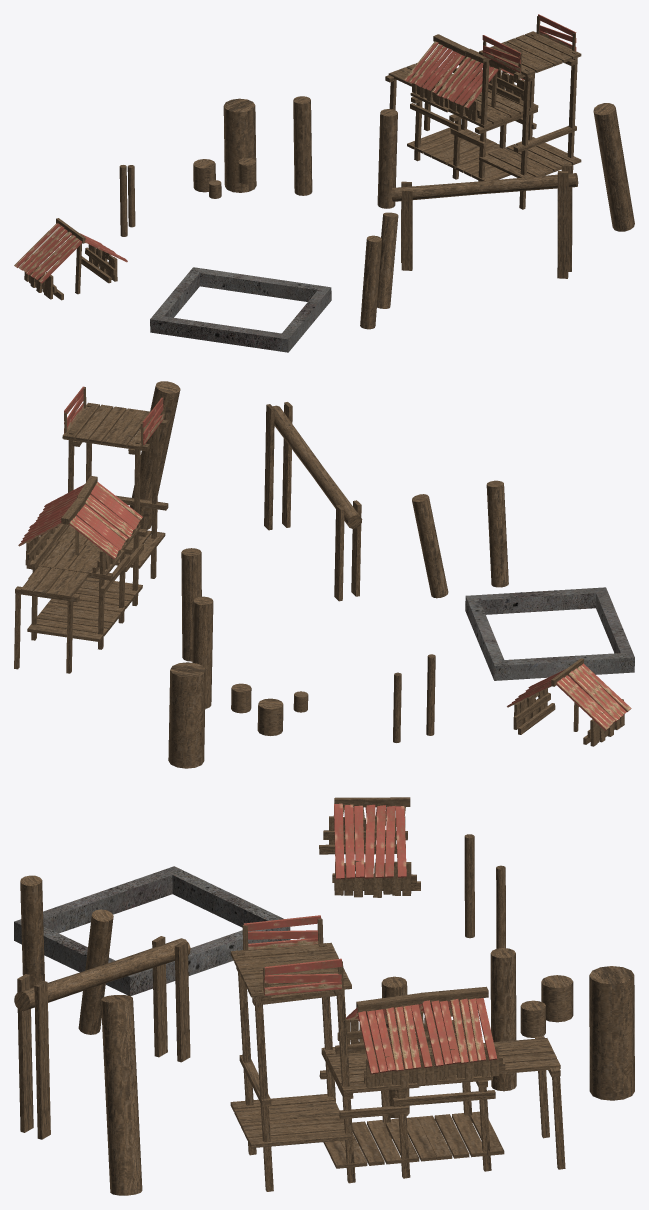
Rendered from SM_Scene_A_SpielPlatz00.fbx.
3 renders of one model, top to bottom at view 1: azimuth 30°, elevation 25°; view 2: azimuth 150°, elevation 25°; view 3: azimuth 270°, elevation 25°, orthographic. The views are drawn at different scales.
Parts seen in each view (by area): view 1: SM_Scene_A_SpielPlatz00; view 2: SM_Scene_A_SpielPlatz00; view 3: SM_Scene_A_SpielPlatz00.
Part boxes in pixels (x1,y1,x2,y2): SM_Scene_A_SpielPlatz00: (14,14,634,352); SM_Scene_A_SpielPlatz00: (14,381,634,768); SM_Scene_A_SpielPlatz00: (14,797,634,1195).
Bounding box in the file's own units: 3329 × 1171 × 2407.
